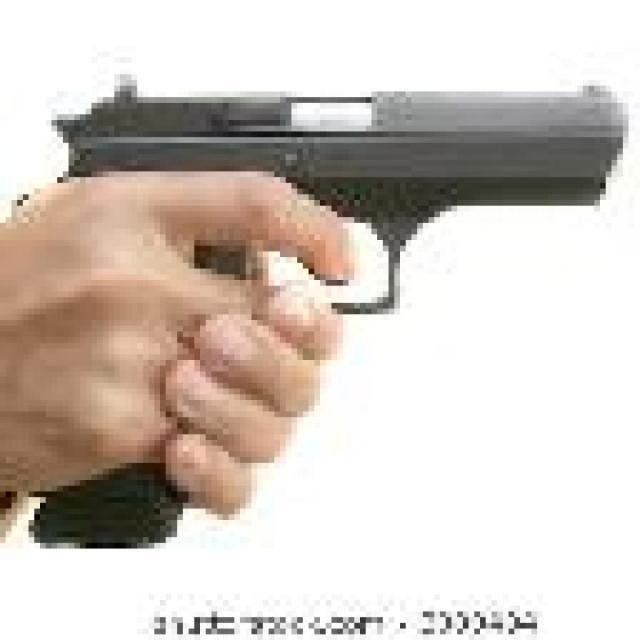pistol: (23, 71, 632, 590)
